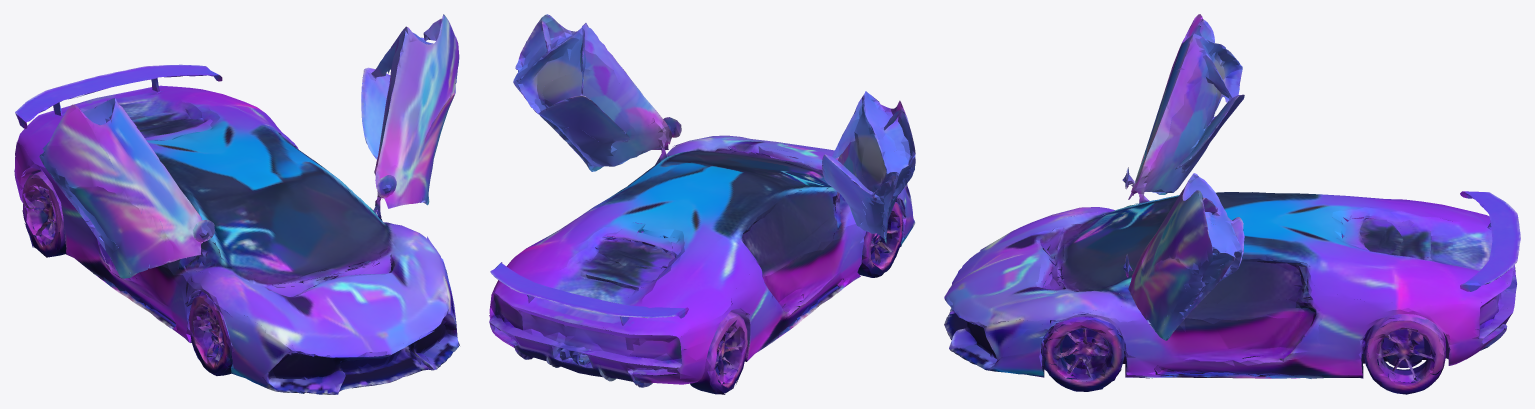
File: exotichypercar2.glb
3 views of the same model, side by side, from view 1: azimuth 30°, elevation 25°; view 2: azimuth 150°, elevation 25°; view 3: azimuth 270°, elevation 25° (orthographic). The views are drawn at different scales.
Parts seen in each view (by area): view 1: body, panel_roof, panel_hood, panel_bumper_f, panel_bumper_r, panel_door_L, wheel_front_L, wheel_rear_L, panel_door_R, panel_trunk; view 2: body, panel_roof, panel_bumper_r, panel_door_L, wheel_rear_L, wheel_front_L, panel_bumper_f, panel_hood, panel_trunk, panel_door_R; view 3: body, panel_door_R, panel_roof, panel_bumper_r, wheel_front_R, wheel_rear_R, panel_bumper_f, panel_hood, panel_trunk.
Part boxes in pixels (box(x1,y1,x2,y2)): body: box(18, 85, 458, 394); panel_roof: box(39, 14, 459, 278); panel_hood: box(93, 103, 396, 314); panel_bumper_f: box(207, 222, 455, 388); panel_bumper_r: box(14, 64, 222, 222); panel_door_L: box(39, 165, 211, 342); wheel_front_L: box(111, 256, 245, 378); wheel_rear_L: box(14, 157, 140, 301); panel_door_R: box(268, 95, 453, 266); panel_trunk: box(145, 119, 294, 143); body: box(495, 135, 915, 394); panel_roof: box(513, 14, 915, 241); panel_bumper_r: box(489, 229, 744, 382); panel_door_L: box(727, 171, 898, 361); wheel_rear_L: box(680, 282, 808, 394); wheel_front_L: box(808, 196, 906, 315); panel_bumper_f: box(715, 144, 913, 237); panel_hood: box(640, 97, 885, 230); panel_trunk: box(602, 224, 762, 276); panel_door_R: box(489, 110, 666, 336); body: box(944, 192, 1514, 394); panel_door_R: box(1058, 258, 1489, 378); panel_roof: box(1128, 14, 1244, 340); panel_bumper_r: box(1332, 191, 1520, 365); wheel_front_R: box(985, 307, 1255, 391); wheel_rear_R: box(1230, 308, 1479, 394); panel_bumper_f: box(944, 213, 1125, 363); panel_hood: box(1113, 36, 1190, 307); panel_trunk: box(1302, 213, 1369, 312).
Bounding box in the file's own units: 3.25 × 1.84 × 4.
Materials: 1 (1 with a texture image).
